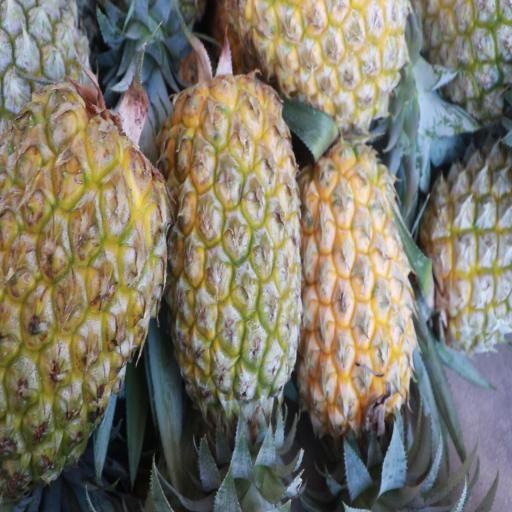------------------------------: (425, 139, 512, 347)
Pineapple - v8 v1: (0, 99, 165, 487), (168, 78, 302, 421), (300, 134, 414, 452), (236, 0, 410, 120)
